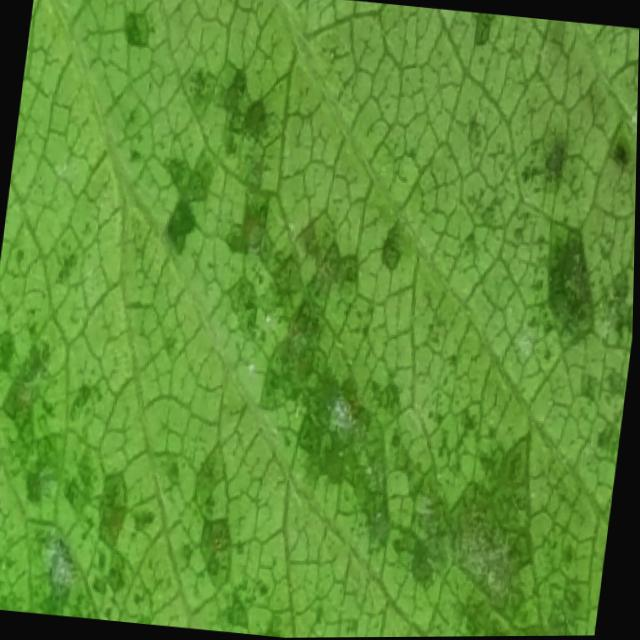Angular Leafspot: (0, 0, 638, 638)
